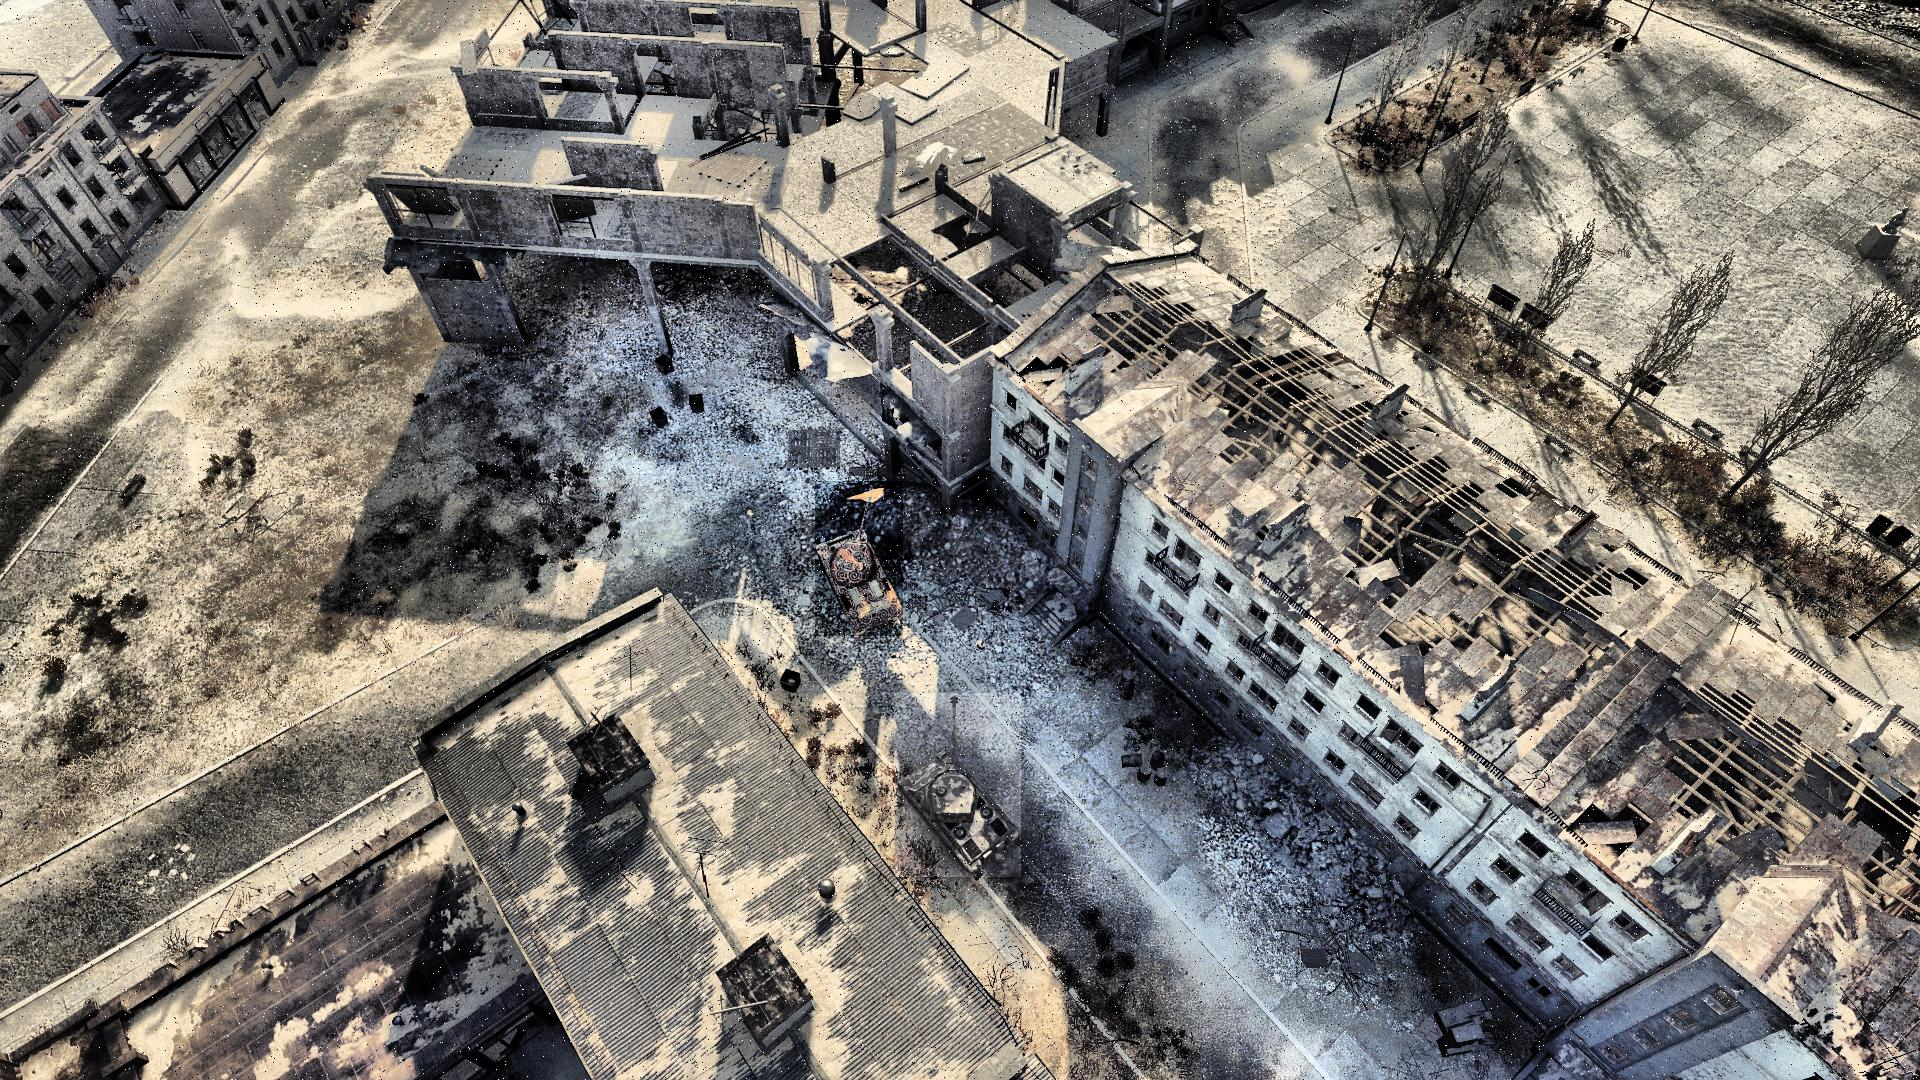military-vehicle: (895, 694, 1022, 877), (815, 481, 903, 637)
